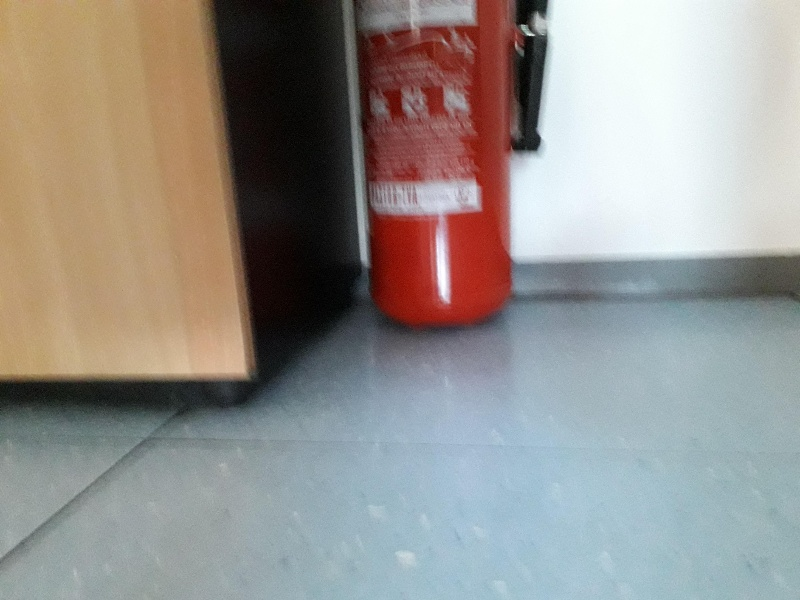vataparat: (354, 2, 550, 329)
